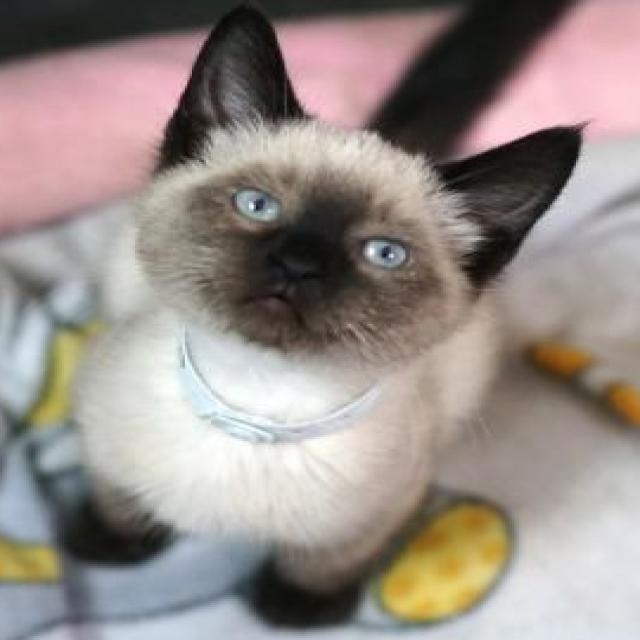Siamese: (50, 0, 588, 630)
